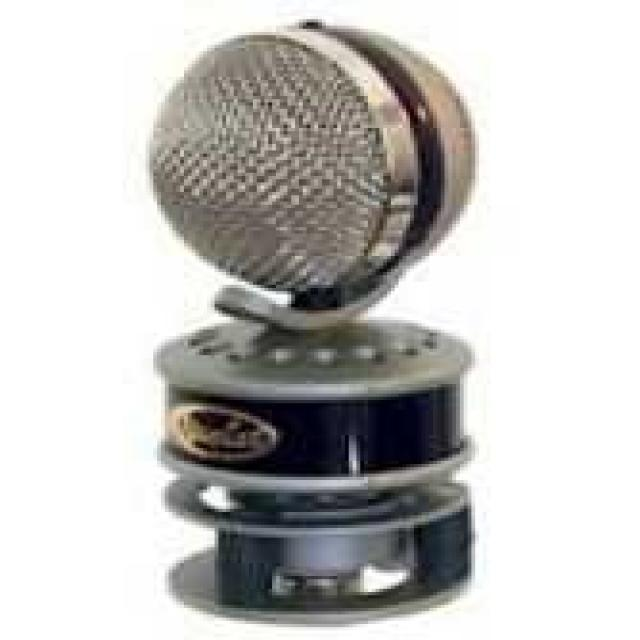microphone: (139, 17, 495, 621)
